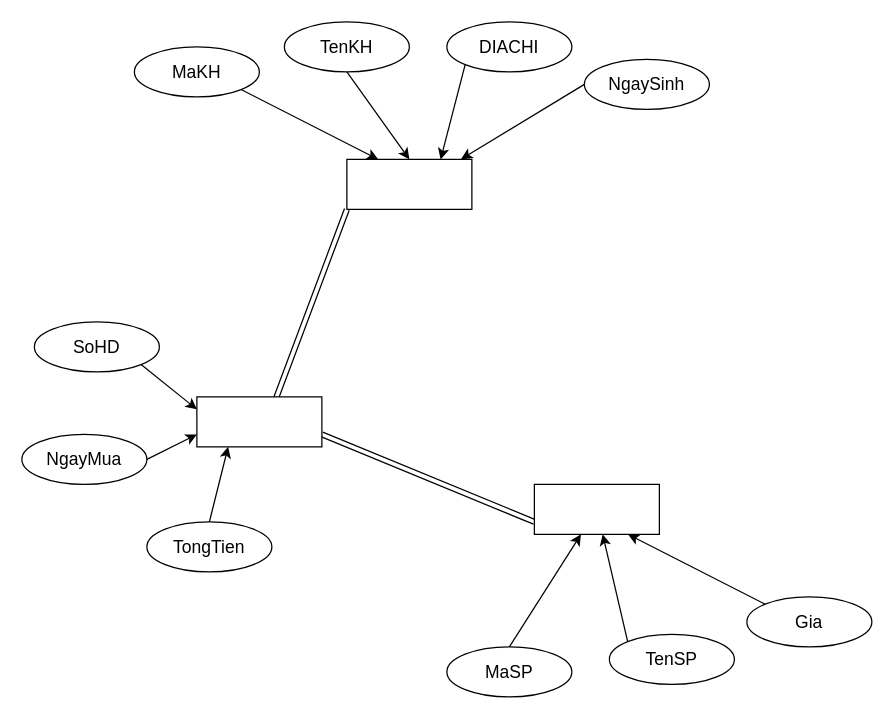
This 894x719 diagram has some shape labels left out. The shapes that lost their labels are listed below. From the top down, each one's box as (x1, y1, x2, y2) in pixels, then its label:
(346, 158, 472, 209): Khách Hàng
(196, 396, 322, 447): Hóa Đơn
(533, 483, 659, 534): Sản Phẩm
